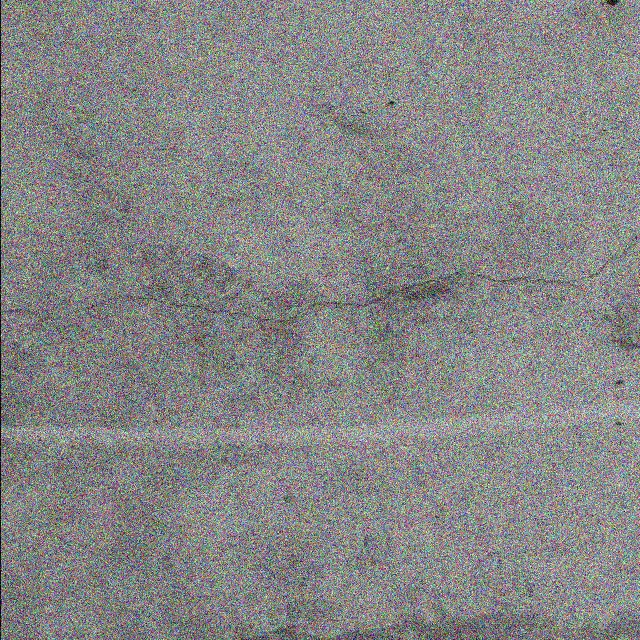SurfaceCrack: (0, 215, 638, 373)
